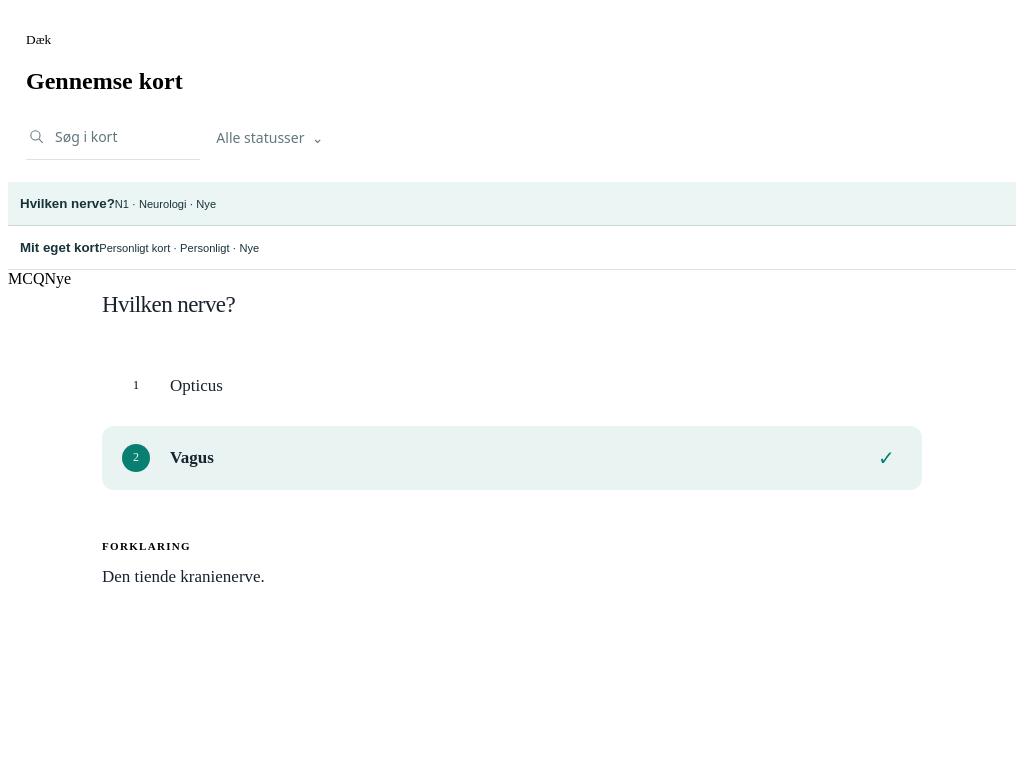
selecting cards uses the same reading workspace for legacy MCQ and personal flashcards
The image size is (1024, 768).
Expected: the element with class "mf799-question" reads "Hvilken nerve?", x1=102 y1=292 x2=235 y2=317
Expected: the list item "2 Vagus ✓" is shown, x1=102 y1=426 x2=922 y2=490
Click the button that starts with "Mit eget kort": click(60, 247) x1=8 y1=226 x2=1016 y2=270
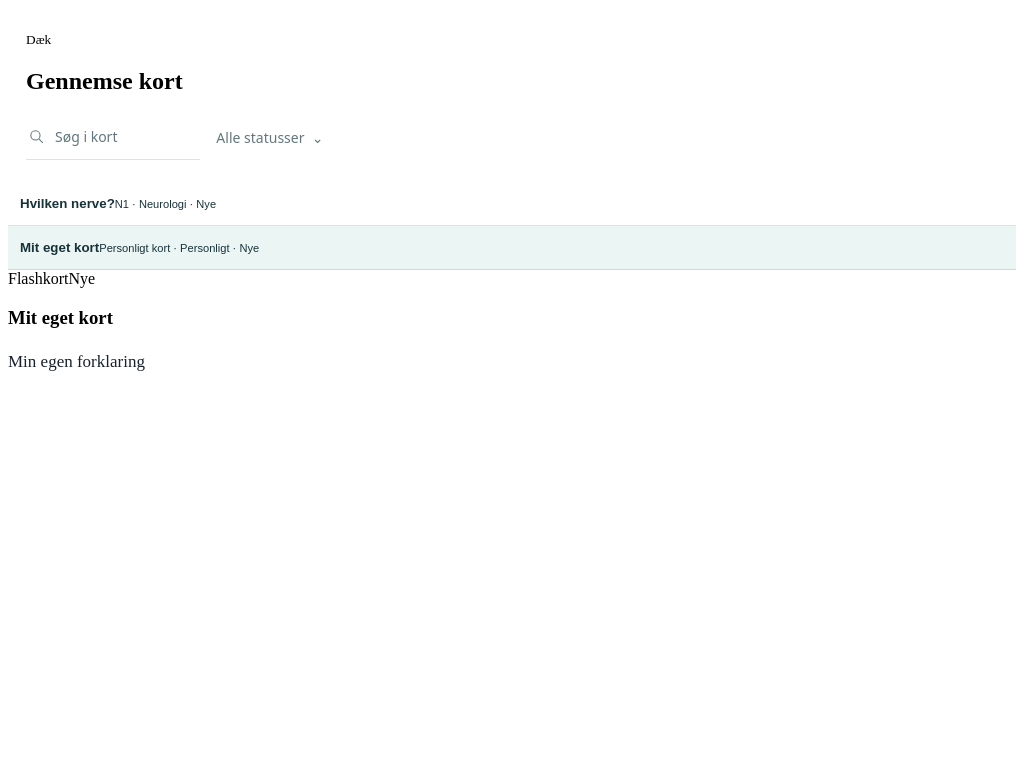
Expected: the heading "Mit eget kort" is shown, x1=8 y1=306 x2=113 y2=328
Expected: the element with class "flashcard71-card-detail" shows "Min egen forklaring", x1=8 y1=352 x2=145 y2=371
